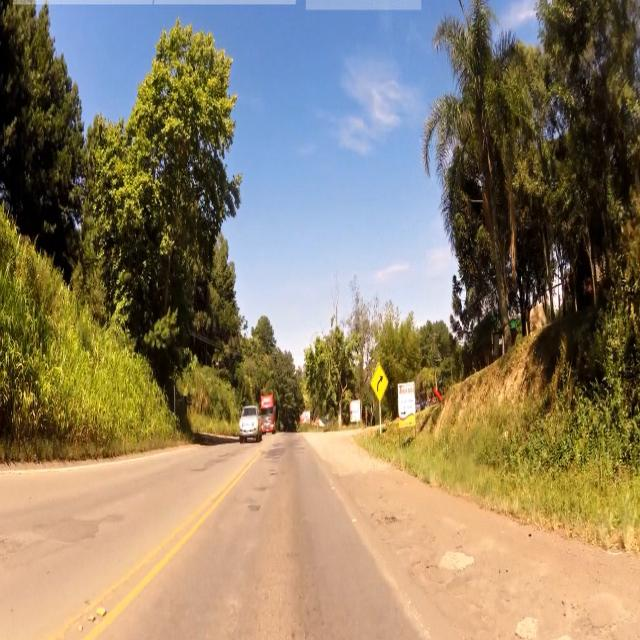A-2b: (371, 360, 387, 404)
